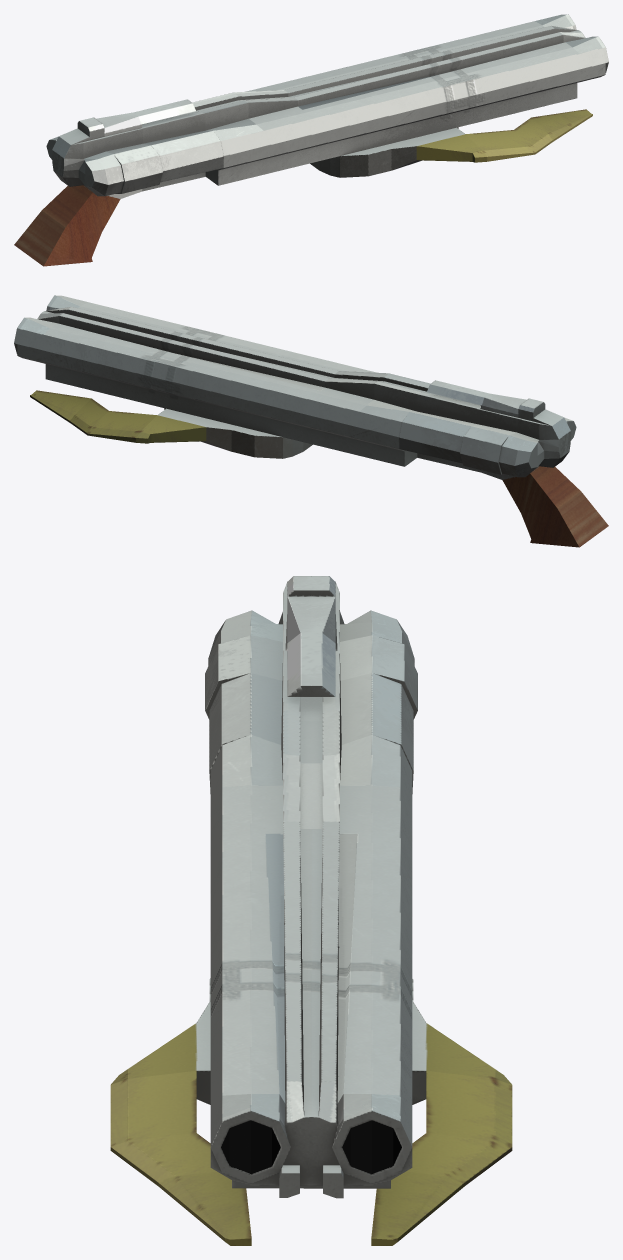
The model's file is Doom.fbx.
The picture shows the model from 3 angles, top to bottom: view 1: azimuth 30°, elevation 25°; view 2: azimuth 150°, elevation 25°; view 3: azimuth 270°, elevation 25°; orthographic projection. The views are drawn at different scales.
Parts seen in each view (by area): view 1: Super_Shotgun; view 2: Super_Shotgun; view 3: Super_Shotgun.
Boxes of the visible parts, x1=… form: Super_Shotgun: x1=14, y1=14, x2=608, y2=266; Super_Shotgun: x1=14, y1=295, x2=608, y2=547; Super_Shotgun: x1=110, y1=576, x2=512, y2=1245.
Size of the model in its own units: 19.74 by 4.23 by 6.13.
